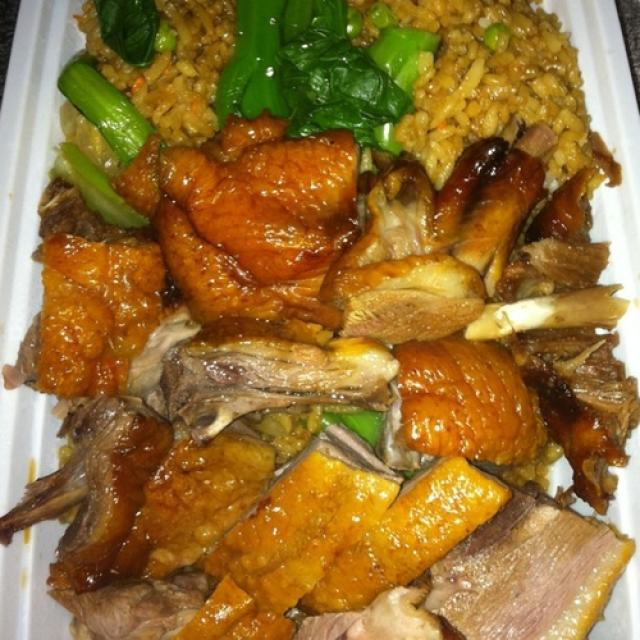米饭主食: (32, 8, 621, 636)
